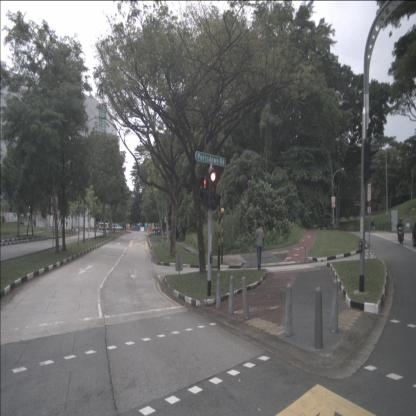human-pedestrian-adult: (253, 222, 265, 270), (371, 216, 375, 232)
vehicle-car: (412, 221, 416, 248)
vehicle-motorcycle: (396, 216, 405, 245)
vehicle-truck: (112, 223, 124, 232), (99, 222, 110, 231)
